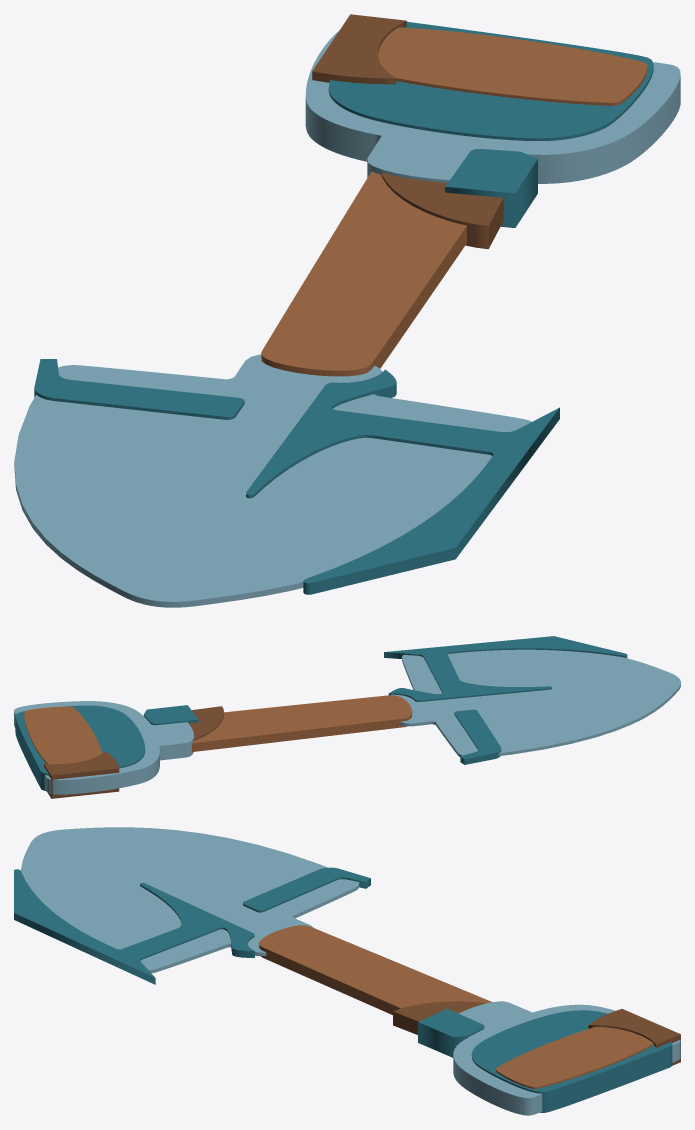
The model's file is emoji_u1fa8f.glb.
The picture shows the model from 3 angles, top to bottom: view 1: azimuth 30°, elevation 25°; view 2: azimuth 150°, elevation 25°; view 3: azimuth 270°, elevation 25°; orthographic projection. The views are drawn at different scales.
Visible parts, largest first — view 1: emoji_u1fa8f; view 2: emoji_u1fa8f; view 3: emoji_u1fa8f.
Boxes of the visible parts, x1,y1,x2,y2 form: emoji_u1fa8f: (14,14,680,607); emoji_u1fa8f: (14,636,680,798); emoji_u1fa8f: (14,827,680,1115).
Bounding box in the file's own units: 0.0342 × 0.0016 × 0.0347.
